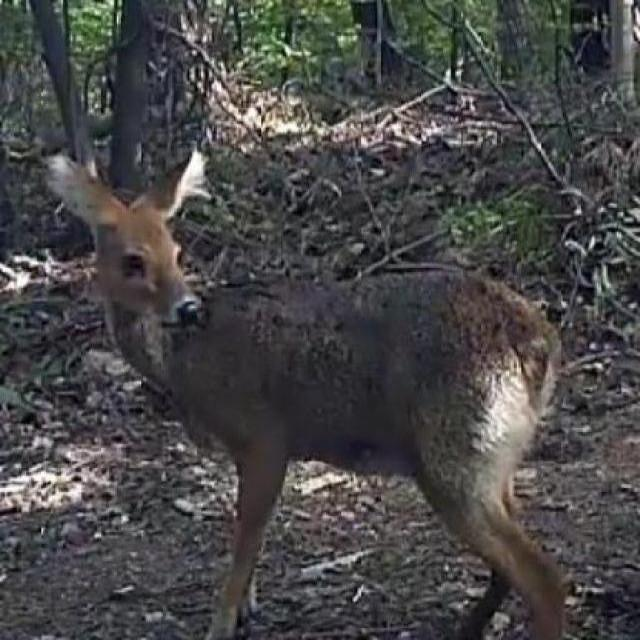deer: (43, 145, 574, 640)
